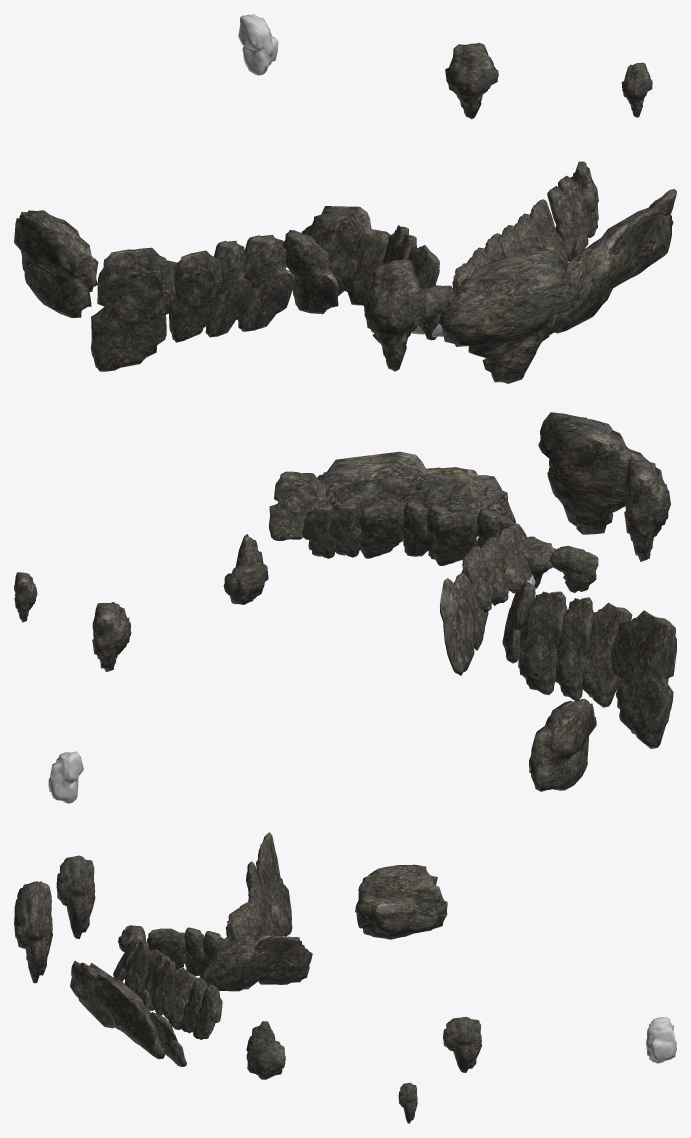
File: rocks.fbx
The picture shows the model from 3 angles, top to bottom: view 1: azimuth 30°, elevation 25°; view 2: azimuth 150°, elevation 25°; view 3: azimuth 270°, elevation 25°; orthographic projection. The views are drawn at different scales.
Parts seen in each view (by area): view 1: Rock_group_20_LOD1__8_, Rock_group_22_LOD1__17_, Rock_group_22_LOD1__18_, Rock_group_22_LOD1__22_, Rock_group_22_LOD1__21_, Rock_group_20_LOD1__3_, Rock_group_22_LOD1__16_, Rock_group_22_LOD1__14_, Rock_group_22_LOD1__20_, Rock_group_22_LOD1__15_, Rock_group_20_LOD1__1_, Rock_group_22_LOD1__1_ (+9 smaller); view 2: Rock_group_22_LOD1__18_, Rock_group_20_LOD1__8_, Rock_group_22_LOD1__17_, Rock_group_22_LOD1__22_, Rock_group_22_LOD1__16_, Rock_group_20_LOD1__3_, Rock_group_22_LOD1__21_, Rock_group_22_LOD1__14_, Rock_group_22_LOD1__19_, Rock_group_22_LOD1__15_, Rock_group_22_LOD1__3_, Rock_group_22_LOD1__7_ (+14 smaller); view 3: Rock_group_22_LOD1__22_, Rock_group_22_LOD1__21_, Rock_group_22_LOD1__18_, Rock_group_20_LOD1__8_, Rock_group_20_LOD1__3_, Rock_group_22_LOD1__17_, Rock_group_20_LOD1__2_, Rock_group_20_LOD1__1_, Rock_group_22_LOD1__3_, Rock_group_22_LOD1__20_, Rock_group_22_LOD1__1_, Rock_group_22_LOD1__10_ (+9 smaller).
Part boxes in pixels (x1=…): Rock_group_20_LOD1__8_: x1=439, y1=249, x2=575, y2=383; Rock_group_22_LOD1__17_: x1=91, y1=247, x2=177, y2=371; Rock_group_22_LOD1__18_: x1=549, y1=205, x2=671, y2=334; Rock_group_22_LOD1__22_: x1=14, y1=210, x2=98, y2=317; Rock_group_22_LOD1__21_: x1=302, y1=206, x2=390, y2=305; Rock_group_20_LOD1__3_: x1=363, y1=259, x2=426, y2=371; Rock_group_22_LOD1__16_: x1=237, y1=234, x2=294, y2=331; Rock_group_22_LOD1__14_: x1=169, y1=250, x2=221, y2=342; Rock_group_22_LOD1__20_: x1=283, y1=230, x2=338, y2=314; Rock_group_22_LOD1__15_: x1=205, y1=240, x2=251, y2=337; Rock_group_20_LOD1__1_: x1=445, y1=42, x2=498, y2=119; Rock_group_22_LOD1__1_: x1=238, y1=14, x2=278, y2=75; Rock_group_22_LOD1__18_: x1=317, y1=451, x2=515, y2=533; Rock_group_20_LOD1__8_: x1=538, y1=412, x2=649, y2=534; Rock_group_22_LOD1__17_: x1=610, y1=610, x2=676, y2=748; Rock_group_22_LOD1__22_: x1=529, y1=698, x2=596, y2=791; Rock_group_22_LOD1__16_: x1=518, y1=591, x2=567, y2=694; Rock_group_20_LOD1__3_: x1=623, y1=459, x2=670, y2=561; Rock_group_22_LOD1__21_: x1=439, y1=572, x2=488, y2=675; Rock_group_22_LOD1__14_: x1=581, y1=602, x2=632, y2=707; Rock_group_22_LOD1__19_: x1=269, y1=471, x2=326, y2=540; Rock_group_22_LOD1__15_: x1=555, y1=597, x2=593, y2=700; Rock_group_22_LOD1__3_: x1=359, y1=503, x2=404, y2=558; Rock_group_22_LOD1__7_: x1=431, y1=511, x2=478, y2=565; Rock_group_22_LOD1__22_: x1=355, y1=864, x2=447, y2=939; Rock_group_22_LOD1__21_: x1=200, y1=935, x2=312, y2=991; Rock_group_22_LOD1__18_: x1=70, y1=961, x2=165, y2=1059; Rock_group_20_LOD1__8_: x1=14, y1=881, x2=52, y2=983; Rock_group_20_LOD1__3_: x1=56, y1=855, x2=95, y2=938; Rock_group_22_LOD1__17_: x1=256, y1=832, x2=292, y2=936; Rock_group_20_LOD1__2_: x1=246, y1=1021, x2=285, y2=1079; Rock_group_20_LOD1__1_: x1=443, y1=1017, x2=481, y2=1072; Rock_group_22_LOD1__3_: x1=160, y1=967, x2=196, y2=1029; Rock_group_22_LOD1__20_: x1=224, y1=901, x2=262, y2=948; Rock_group_22_LOD1__1_: x1=646, y1=1017, x2=676, y2=1063; Rock_group_22_LOD1__10_: x1=146, y1=928, x2=186, y2=970.
Size of what is drawn, in the model's own units: 42941 by 11537 by 50877.
